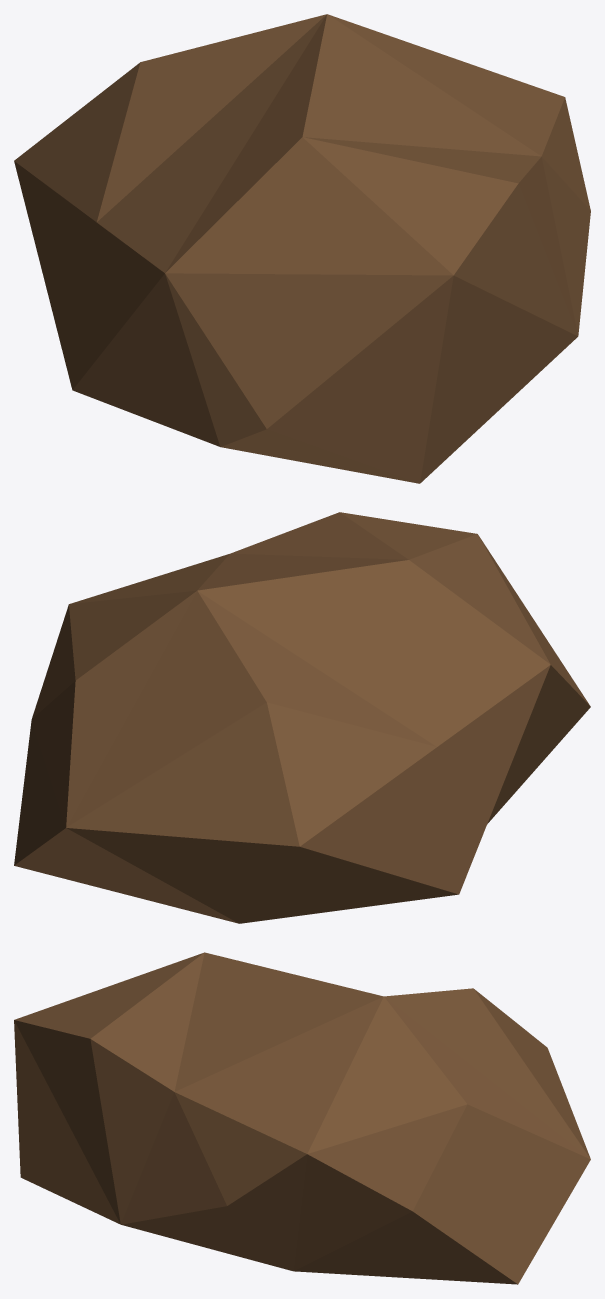
File: Rock_3_Light_Brown.fbx
3 renders of one model, top to bottom at view 1: azimuth 30°, elevation 25°; view 2: azimuth 150°, elevation 25°; view 3: azimuth 270°, elevation 25°, orthographic. The views are drawn at different scales.
Visible parts, largest first — view 1: Rock_3_Light_Brown; view 2: Rock_3_Light_Brown; view 3: Rock_3_Light_Brown.
Boxes of the visible parts, <box> form: Rock_3_Light_Brown: <box>14,14,590,483</box>; Rock_3_Light_Brown: <box>14,512,590,923</box>; Rock_3_Light_Brown: <box>14,952,590,1284</box>.
Size of the model in its own units: 284 by 183 by 360.
